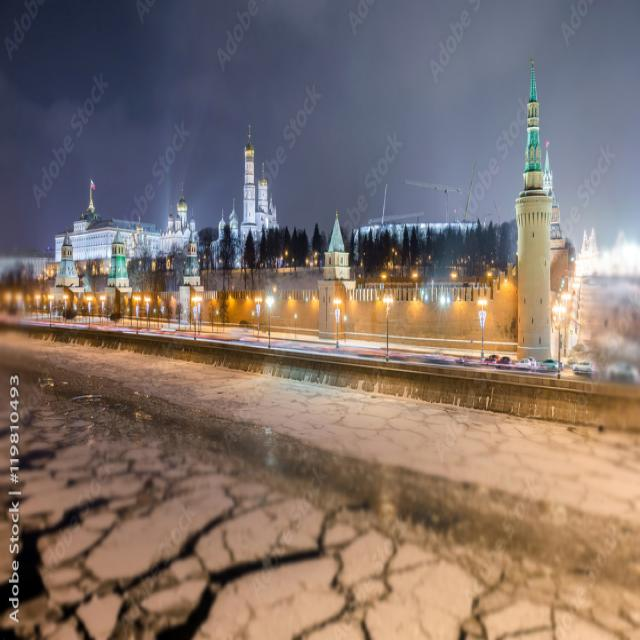Drain Hole: (32, 459, 422, 640)
